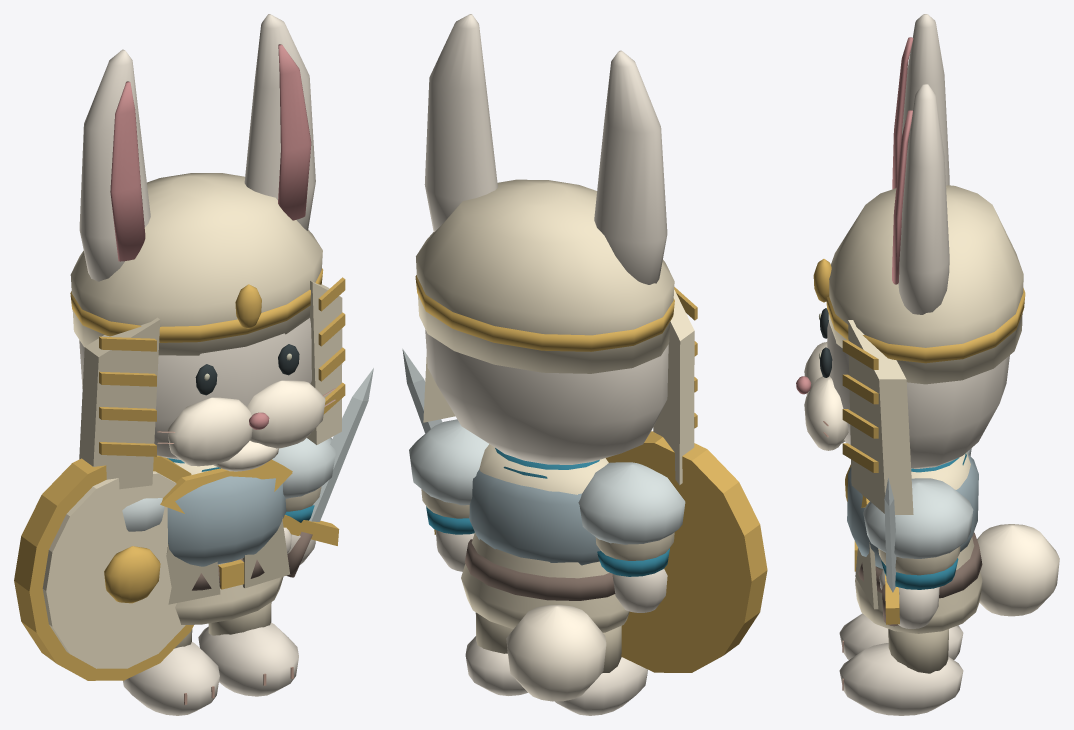
File: guard.glb
The picture shows the model from 3 angles, left to right: view 1: azimuth 30°, elevation 25°; view 2: azimuth 150°, elevation 25°; view 3: azimuth 270°, elevation 25°; orthographic projection. The views are drawn at different scales.
Parts seen in each view (by area): view 1: Striped nemes crown, Regional shield face, Shield gold rim, Rounded breastplate, Nemes shoulder wing, Animal cheek head, Rabbit long soft ear, Rabbit long soft ear.001, Soft animal paw.001, Rabbit round cheek, Soft animal paw, Rabbit pink inner ear (+22 smaller); view 2: Striped nemes crown, Shield gold rim, Animal cheek head, Rabbit long soft ear, Rabbit long soft ear.001, Short folded tunic, Rounded breastplate, Rabbit cotton tail, Big shoulder armour, Big shoulder armour.001, Nemes front band, Nemes shoulder wing (+14 smaller); view 3: Striped nemes crown, Rabbit long soft ear.001, Animal cheek head, Nemes shoulder wing.001, Rabbit cotton tail, Soft animal paw.001, Big shoulder armour.001, Short folded tunic, Rabbit long soft ear, Nemes front band, Rabbit round cheek.001, Stubby trouser.001 (+17 smaller).
Boxes of the visible parts, x1=… form: Striped nemes crown: x1=70, y1=173, x2=322, y2=355; Regional shield face: x1=42, y1=471, x2=185, y2=668; Shield gold rim: x1=14, y1=455, x2=193, y2=680; Rounded breastplate: x1=167, y1=476, x2=286, y2=566; Nemes shoulder wing: x1=79, y1=317, x2=160, y2=489; Animal cheek head: x1=79, y1=318, x2=311, y2=459; Rabbit long soft ear: x1=79, y1=49, x2=150, y2=281; Rabbit long soft ear.001: x1=244, y1=14, x2=315, y2=230; Soft animal paw.001: x1=198, y1=622, x2=298, y2=696; Rabbit round cheek: x1=167, y1=397, x2=252, y2=466; Soft animal paw: x1=123, y1=642, x2=219, y2=715; Rabbit pink inner ear: x1=110, y1=81, x2=145, y2=261; Striped nemes crown: x1=416, y1=179, x2=674, y2=373; Shield gold rim: x1=606, y1=431, x2=767, y2=672; Animal cheek head: x1=425, y1=329, x2=668, y2=464; Rabbit long soft ear: x1=594, y1=50, x2=667, y2=284; Rabbit long soft ear.001: x1=424, y1=14, x2=497, y2=231; Short folded tunic: x1=461, y1=444, x2=629, y2=632; Rounded breastplate: x1=469, y1=469, x2=600, y2=565; Rabbit cotton tail: x1=506, y1=604, x2=606, y2=701; Big shoulder armour: x1=578, y1=462, x2=685, y2=544; Big shoulder armour.001: x1=409, y1=419, x2=488, y2=505; Nemes front band: x1=415, y1=275, x2=674, y2=351; Nemes shoulder wing: x1=653, y1=290, x2=694, y2=484; Striped nemes crown: x1=828, y1=185, x2=1023, y2=384; Rabbit long soft ear.001: x1=898, y1=84, x2=949, y2=314; Animal cheek head: x1=827, y1=322, x2=1009, y2=468; Nemes shoulder wing.001: x1=848, y1=320, x2=913, y2=514; Rabbit cotton tail: x1=977, y1=524, x2=1059, y2=616; Soft animal paw.001: x1=839, y1=643, x2=963, y2=715; Big shoulder armour.001: x1=863, y1=478, x2=973, y2=558; Short folded tunic: x1=855, y1=452, x2=982, y2=633; Rabbit long soft ear: x1=902, y1=14, x2=949, y2=185; Nemes front band: x1=826, y1=288, x2=1025, y2=363; Rabbit round cheek.001: x1=804, y1=376, x2=848, y2=450; Stubby trouser.001: x1=888, y1=629, x2=948, y2=673.
Bounding box in the file's own units: 1.15 × 2.06 × 0.766.
